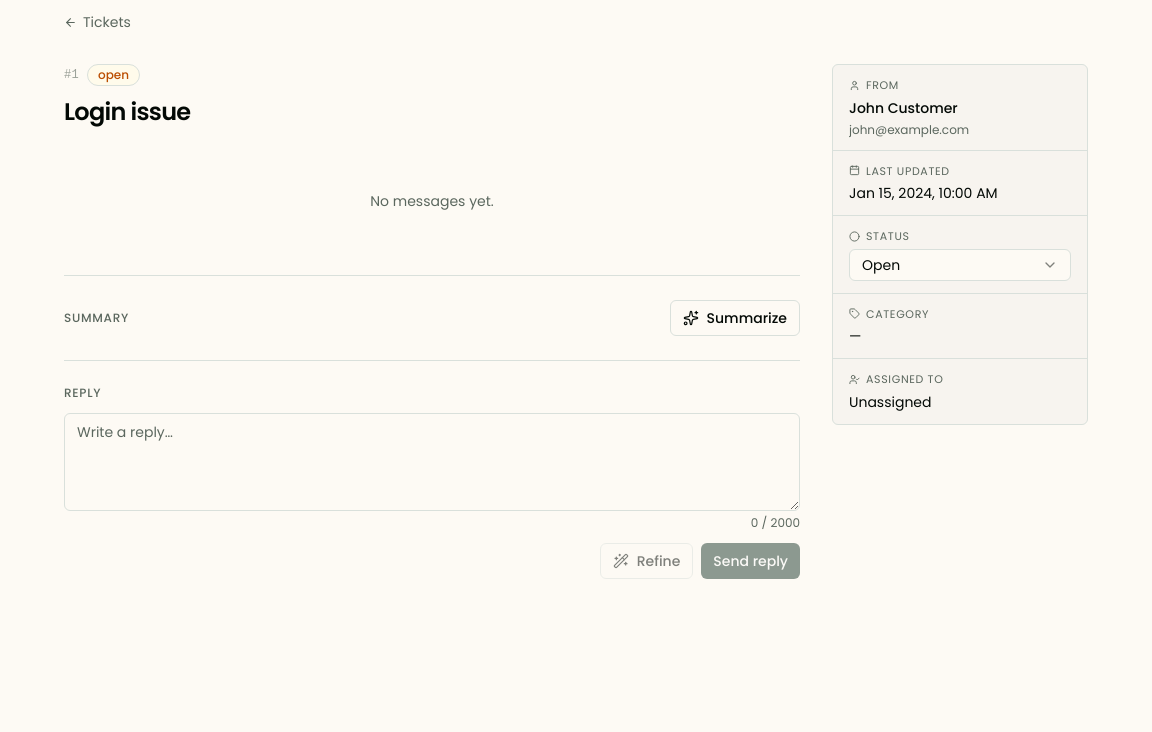
Test: TicketDetailPage — reply form errors › shows an error alert when the POST returns an API error
Expected: the heading "Login issue" is shown, x1=64 y1=95 x2=190 y2=128
Type "Test reply" into the text box with placeholder "Write a reply…" at {"x": 432, "y": 462}, box x1=64 y1=413 x2=800 y2=511
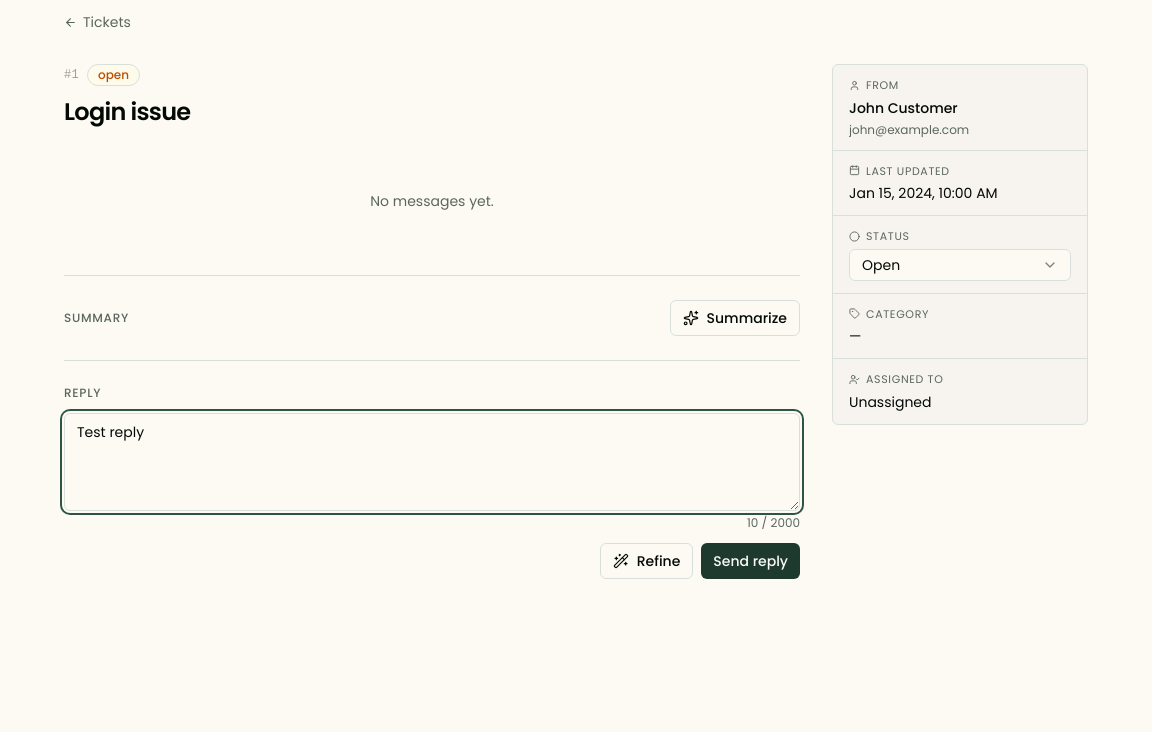
Click the button "Send reply" at {"x": 751, "y": 561}, box x1=701 y1=543 x2=800 y2=579
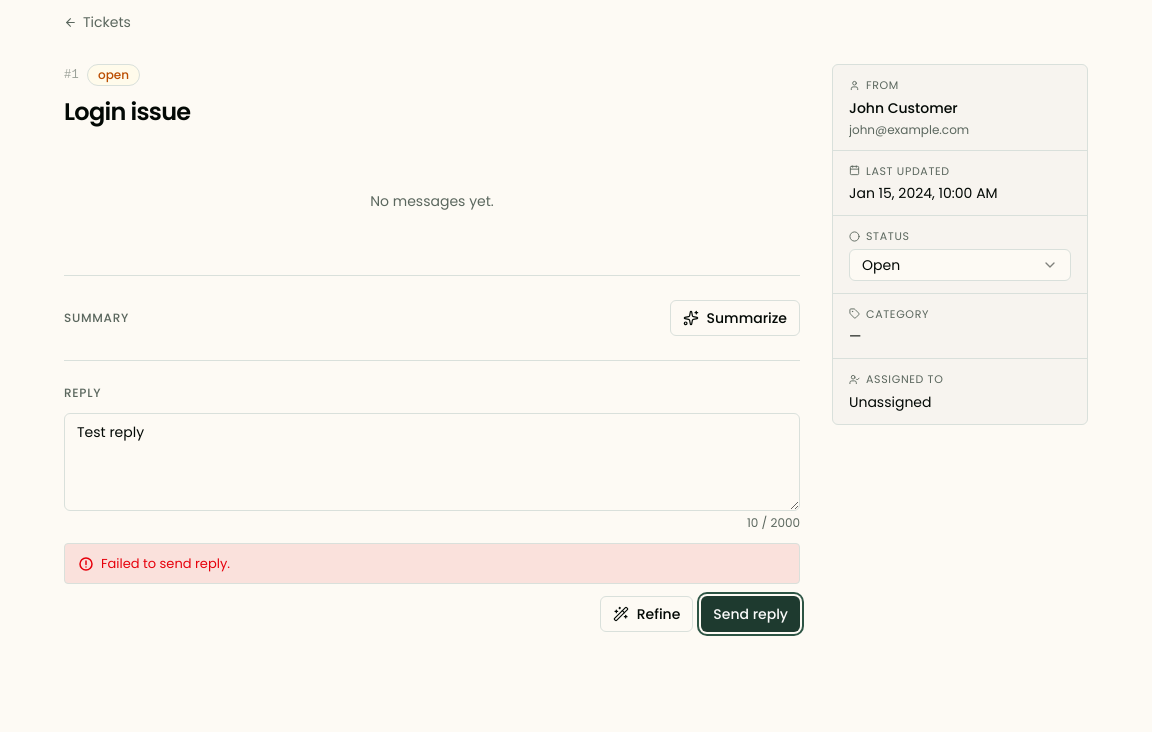
Expected: the message shows "Failed to send reply", x1=101 y1=554 x2=230 y2=573
